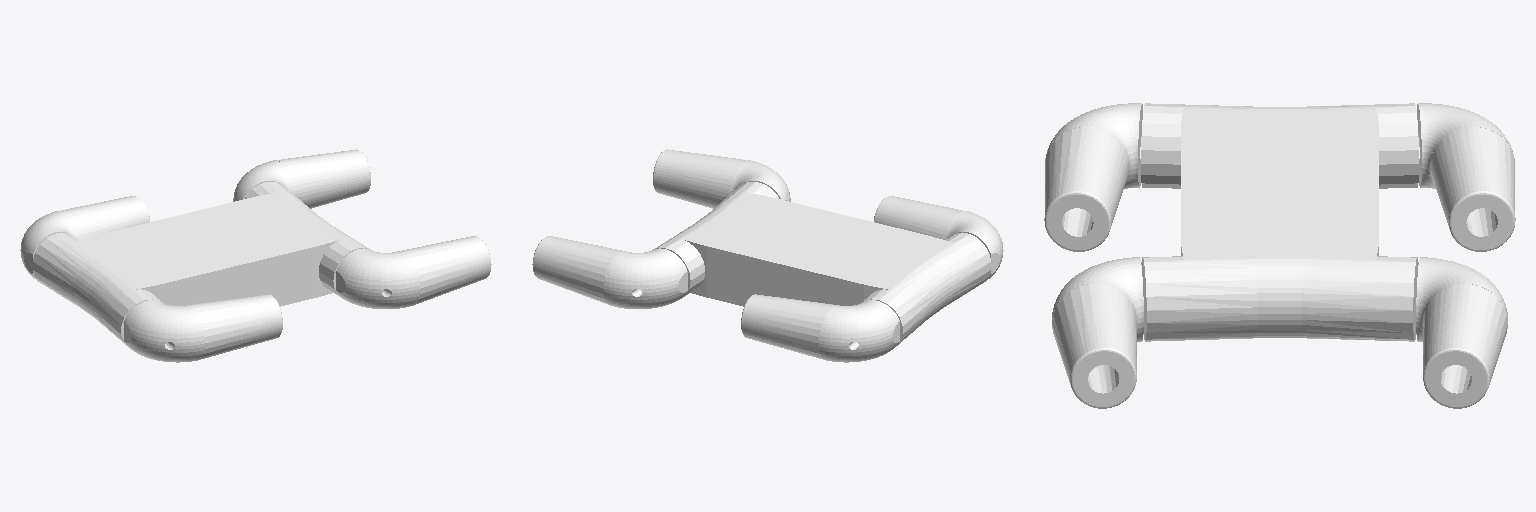
The robot description file, URDF, robot "4_degree":
<?xml version="1.0" encoding="utf-8"?>
<!-- This URDF was automatically created by SolidWorks to URDF Exporter! Originally created by [author] ([email redacted]) 
     Commit Version: 1.5.1-0-g916b5db  Build Version: 1.5.7152.31018
     For more information, please see http://wiki.ros.org/sw_urdf_exporter -->
<robot
  name="4_degree">
  <link
    name="base_link">
    <inertial>
      <origin
        xyz="1.3878E-17 1.6751E-08 5.2042E-18"
        rpy="0 0 0" />
      <mass
        value="2.803" />
      <inertia
        ixx="0.010311672"
        ixy="2.0986E-18"
        ixz="-8.8117E-11"
        iyy="0.036141144"
        iyz="-2.7021E-18"
        izz="0.044092004" />
    </inertial>
    <visual>
      <origin
        xyz="0 0 0"
        rpy="0 0 0" />
      <geometry>
        <mesh
          filename="package://4_degree/meshes/base_link.STL" />
      </geometry>
      <material
        name="">
        <color
          rgba="1 1 1 1" />
      </material>
    </visual>
    <collision>
      <origin
        xyz="0 0 0"
        rpy="0 0 0" />
      <geometry>
        <mesh
          filename="package://4_degree/meshes/base_link.STL" />
      </geometry>
    </collision>
  </link>
  <link
    name="left_fromt_link">
    <inertial>
      <origin
        xyz="-1.8194E-07 0.053149 -0.032121"
        rpy="0 0 0" />
      <mass
        value="0.0802" />
      <inertia
        ixx="0.000191137"
        ixy="5.0034E-10"
        ixz="6.2796E-10"
        iyy="0.000044639"
        iyz="0.8714E-05"
        izz="0.000190506" />
    </inertial>
    <visual>
      <origin
        xyz="0 0 0"
        rpy="0 0 0" />
      <geometry>
        <mesh
          filename="package://4_degree/meshes/left_fromt_link.STL" />
      </geometry>
      <material
        name="">
        <color
          rgba="1 1 1 1" />
      </material>
    </visual>
    <collision>
      <origin
        xyz="0 0 0"
        rpy="0 0 0" />
      <geometry>
        <mesh
          filename="package://4_degree/meshes/left_fromt_link.STL" />
      </geometry>
    </collision>
  </link>
  <joint
    name="left_front_leg"
    type="continuous">
    <origin
      xyz="0.13718 0.10275 0"
      rpy="1.5708 1.5708 0" />
    <parent
      link="base_link" />
    <child
      link="left_fromt_link" />
    <axis
      xyz="0 0.069756 -0.99756" />
    <limit
      effort="5"
      velocity="487" />
  </joint>
  <link
    name="right_front_link">
    <inertial>
      <origin
        xyz="1.8194E-07 0.053149 0.032121"
        rpy="0 0 0" />
      <mass
        value="0.0802" />
      <inertia
        ixx="0.000191137"
        ixy="-5.0034E-10"
        ixz="6.2796E-10"
        iyy="0.000044639"
        iyz="-0.8741E-05"
        izz="0.000190506" />
    </inertial>
    <visual>
      <origin
        xyz="0 0 0"
        rpy="0 0 0" />
      <geometry>
        <mesh
          filename="package://4_degree/meshes/right_front_link.STL" />
      </geometry>
      <material
        name="">
        <color
          rgba="1 1 1 1" />
      </material>
    </visual>
    <collision>
      <origin
        xyz="0 0 0"
        rpy="0 0 0" />
      <geometry>
        <mesh
          filename="package://4_degree/meshes/right_front_link.STL" />
      </geometry>
    </collision>
  </link>
  <joint
    name="right_front_leg"
    type="continuous">
    <origin
      xyz="0.13718 -0.10275 0"
      rpy="1.5708 1.5708 0" />
    <parent
      link="base_link" />
    <child
      link="right_front_link" />
    <axis
      xyz="0 0.069756 0.99756" />
    <limit
      effort="5"
      velocity="487" />
  </joint>
  <link
    name="right_back_link">
    <inertial>
      <origin
        xyz="5.6832E-09 0.05078 0.03575"
        rpy="0 0 0" />
      <mass
        value="0.0802" />
      <inertia
        ixx="0.000191173"
        ixy="-4.1916E-10"
        ixz="4.8874E-10"
        iyy="0.000046565"
        iyz="-1.8806E-05"
        izz="0.00018858" />
    </inertial>
    <visual>
      <origin
        xyz="0 0 0"
        rpy="0 0 0" />
      <geometry>
        <mesh
          filename="package://4_degree/meshes/right_back_link.STL" />
      </geometry>
      <material
        name="">
        <color
          rgba="1 1 1 1" />
      </material>
    </visual>
    <collision>
      <origin
        xyz="0 0 0"
        rpy="0 0 0" />
      <geometry>
        <mesh
          filename="package://4_degree/meshes/right_back_link.STL" />
      </geometry>
    </collision>
  </link>
  <joint
    name="right_back_leg"
    type="continuous">
    <origin
      xyz="-0.13718 -0.10275 0"
      rpy="1.6406 1.5708 0" />
    <parent
      link="base_link" />
    <child
      link="right_back_link" />
    <axis
      xyz="0 0 1" />
    <limit
      effort="5"
      velocity="487" />
  </joint>
  <link
    name="left_back_link">
    <inertial>
      <origin
        xyz="-5.6832E-09 0.048162 -0.039205"
        rpy="0 0 0" />
      <mass
        value="0.0802" />
      <inertia
        ixx="0.000191137"
        ixy="4.5223E-10"
        ixz="4.5831E-10"
        iyy="0.000049874"
        iyz="0.000028505"
        izz="0.000185271" />
    </inertial>
    <visual>
      <origin
        xyz="0 0 0"
        rpy="0 0 0" />
      <geometry>
        <mesh
          filename="package://4_degree/meshes/left_back_link.STL" />
      </geometry>
      <material
        name="">
        <color
          rgba="1 1 1 1" />
      </material>
    </visual>
    <collision>
      <origin
        xyz="0 0 0"
        rpy="0 0 0" />
      <geometry>
        <mesh
          filename="package://4_degree/meshes/left_back_link.STL" />
      </geometry>
    </collision>
  </link>
  <joint
    name="left_back_leg"
    type="continuous">
    <origin
      xyz="-0.13718 0.10275 0"
      rpy="1.5708 1.5708 0" />
    <parent
      link="base_link" />
    <child
      link="left_back_link" />
    <axis
      xyz="0 -0.069756 -0.99756" />
    <limit
      effort="5"
      velocity="487" />
  </joint>
</robot>

--- Render facts (derived) ---
3 views of the same robot in one strip: view 1: azimuth 30°, elevation 25°; view 2: azimuth 150°, elevation 25°; view 3: azimuth 270°, elevation 25° (orthographic).
Model 4_degree with 5 links and 4 joints (4 continuous), rooted at base_link, posed all joints at 0.
Links seen in each view (by area): view 1: base_link, right_back_link, right_front_link, left_fromt_link, left_back_link; view 2: base_link, left_back_link, left_fromt_link, right_front_link, right_back_link; view 3: base_link, right_back_link, left_back_link, left_fromt_link, right_front_link.
Boxes of the visible links, x1,y1,x2,y2 form: base_link: [32, 182, 370, 345]; right_back_link: [124, 294, 282, 362]; right_front_link: [336, 236, 491, 308]; left_fromt_link: [233, 149, 370, 208]; left_back_link: [20, 196, 149, 281]; base_link: [653, 182, 991, 345]; left_back_link: [741, 294, 899, 362]; left_fromt_link: [532, 236, 687, 308]; right_front_link: [653, 149, 790, 208]; right_back_link: [874, 196, 1003, 281]; base_link: [1141, 103, 1418, 341]; right_back_link: [1044, 103, 1142, 251]; left_back_link: [1417, 103, 1515, 251]; left_fromt_link: [1416, 257, 1507, 408]; right_front_link: [1052, 257, 1143, 408].
Size in the robot's own frame: 0.4503 by 0.3555 by 0.064 metres.
5 mesh visuals loaded from 5 distinct referenced files (5 binary STL).